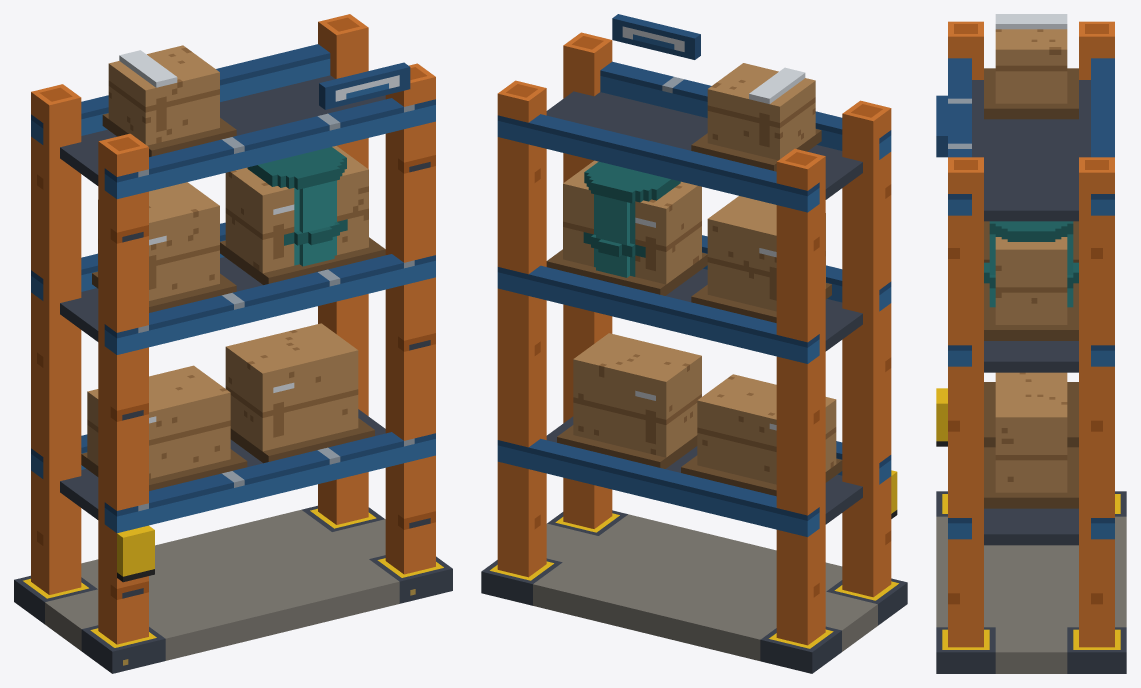
File: storage_rack.obj
The picture shows the model from 3 angles, left to right: view 1: azimuth 30°, elevation 25°; view 2: azimuth 150°, elevation 25°; view 3: azimuth 270°, elevation 25°; orthographic projection. The views are drawn at different scales.
Visible parts, largest first — view 1: storage_rack; view 2: storage_rack; view 3: storage_rack.
Part boxes in pixels (x1=…): storage_rack: x1=14, y1=14, x2=452, y2=673; storage_rack: x1=481, y1=14, x2=907, y2=673; storage_rack: x1=936, y1=14, x2=1126, y2=673.
Size of the model in its own units: 2 by 3.09 by 1.
